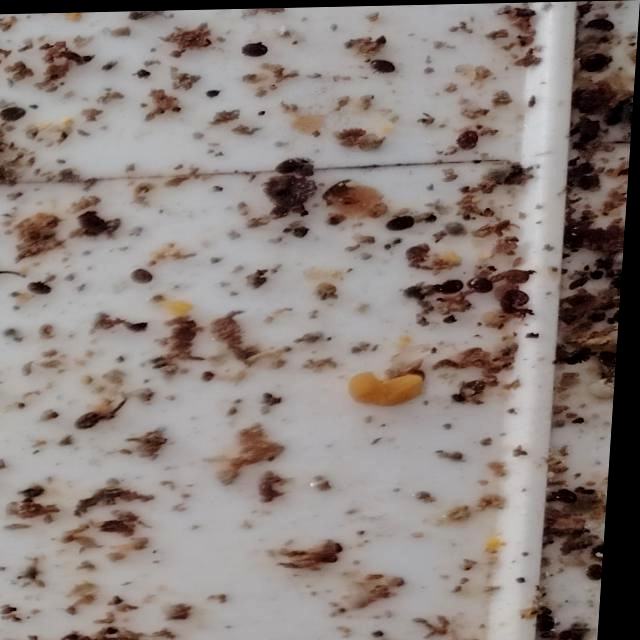varroa: (581, 55, 610, 75), (78, 409, 107, 428), (276, 157, 310, 173), (388, 214, 417, 232), (470, 277, 499, 294), (457, 131, 480, 152), (584, 19, 615, 34), (561, 489, 585, 507), (130, 267, 157, 283), (240, 41, 268, 56), (440, 279, 466, 295), (541, 614, 564, 632), (508, 290, 531, 307), (370, 59, 396, 74), (28, 279, 53, 293), (602, 352, 621, 369), (592, 565, 609, 582)
